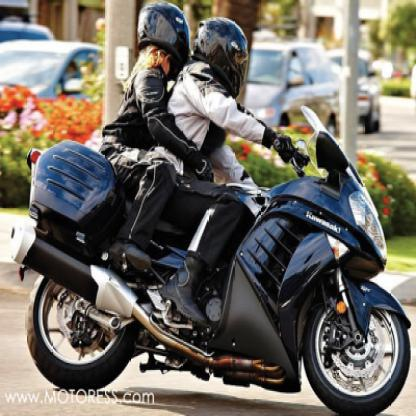Helmet: (200, 13, 248, 95), (134, 5, 193, 71)
